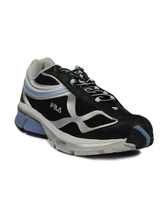shoes: (12, 56, 157, 158)
